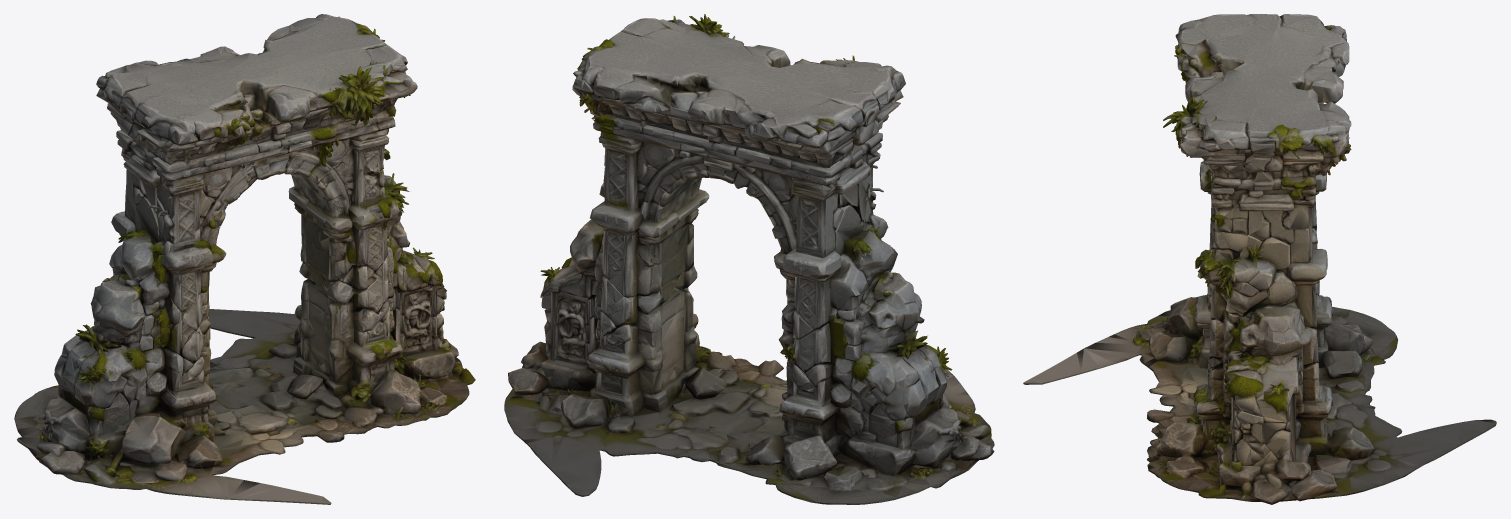
File: gate-ruin.glb
3 views of the same model, side by side, from view 1: azimuth 30°, elevation 25°; view 2: azimuth 150°, elevation 25°; view 3: azimuth 270°, elevation 25° (orthographic). The views are drawn at different scales.
Visible parts, largest first — view 1: tripo_node_7554d447; view 2: tripo_node_7554d447; view 3: tripo_node_7554d447.
Boxes of the visible parts, x1,y1,x2,y2 form: tripo_node_7554d447: [14, 14, 475, 504]; tripo_node_7554d447: [504, 14, 994, 504]; tripo_node_7554d447: [1023, 14, 1496, 504].
Bounding box in the file's own units: 0.9815 × 0.7448 × 0.9341.
1 material, 1 textured.
